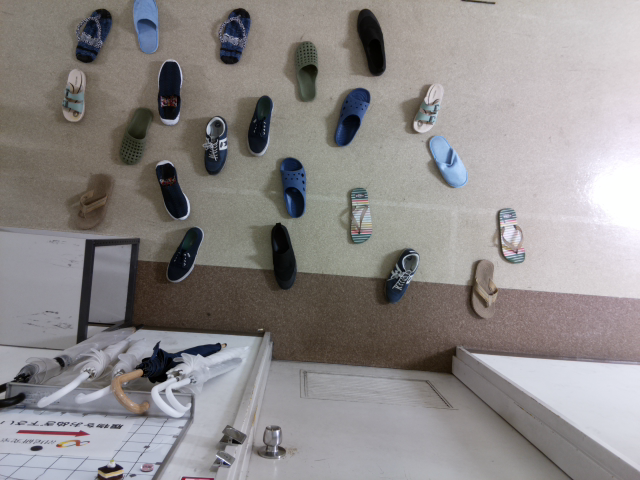Copy of Copy of Copy of Copy of Copy of Copy of Copy of sandal: (217, 7, 251, 64)
Copy of Copy of Copy of Copy of Copy of Copy of sandal: (412, 83, 443, 133)
Copy of Copy of Copy of Copy of Copy of Copy of shoes: (157, 59, 183, 125)
Copy of Copy of Copy of Copy of Copy of sandal: (472, 257, 499, 319)
Copy of Copy of Copy of Copy of Copy of shoes: (246, 95, 274, 157)
Copy of Copy of Copy of Copy of Copy of slipper: (427, 134, 467, 188)
Copy of Copy of Copy of Copy of sandal: (498, 207, 526, 263)
Copy of Copy of Copy of Copy of shoes: (203, 115, 228, 176)
Copy of Copy of Copy of Copy of slipper: (132, 1, 158, 54)
Copy of Copy of Copy of sandal: (349, 186, 373, 243)
Copy of Copy of Copy of shoes: (156, 159, 190, 219)
Copy of Copy of Copy of slipper: (118, 106, 153, 166)
Copy of Copy of sandal: (74, 172, 114, 229)
Copy of Copy of shoes: (166, 226, 204, 283)
Copy of Copy of slipper: (279, 156, 307, 218)
Copy of sandal: (61, 68, 87, 122)
Copy of shoes: (269, 221, 297, 288)
Copy of slipper: (334, 87, 370, 147)
sandal: (74, 8, 112, 64)
shoes: (383, 246, 420, 303)
slipper: (295, 41, 318, 102)
